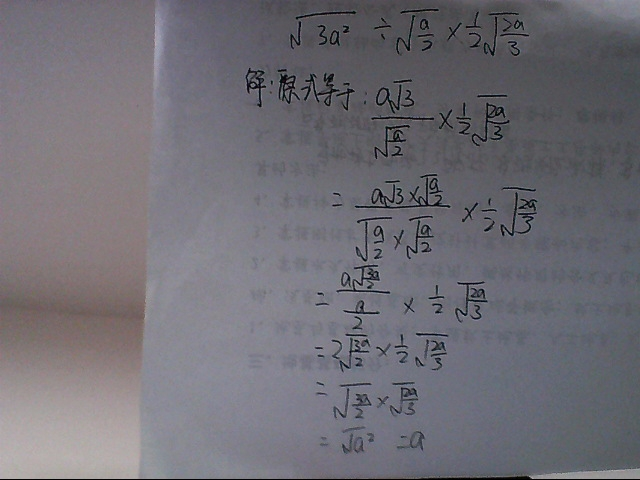division: (355, 199, 463, 216), (370, 111, 437, 124), (512, 209, 538, 217)
sqrt: (287, 7, 362, 49), (405, 213, 452, 271), (497, 183, 542, 242), (395, 6, 446, 56), (484, 8, 530, 62), (471, 91, 513, 148), (374, 119, 417, 159), (390, 75, 417, 114), (416, 171, 443, 207), (380, 176, 404, 207)
square: (365, 430, 377, 442), (341, 24, 350, 34)
